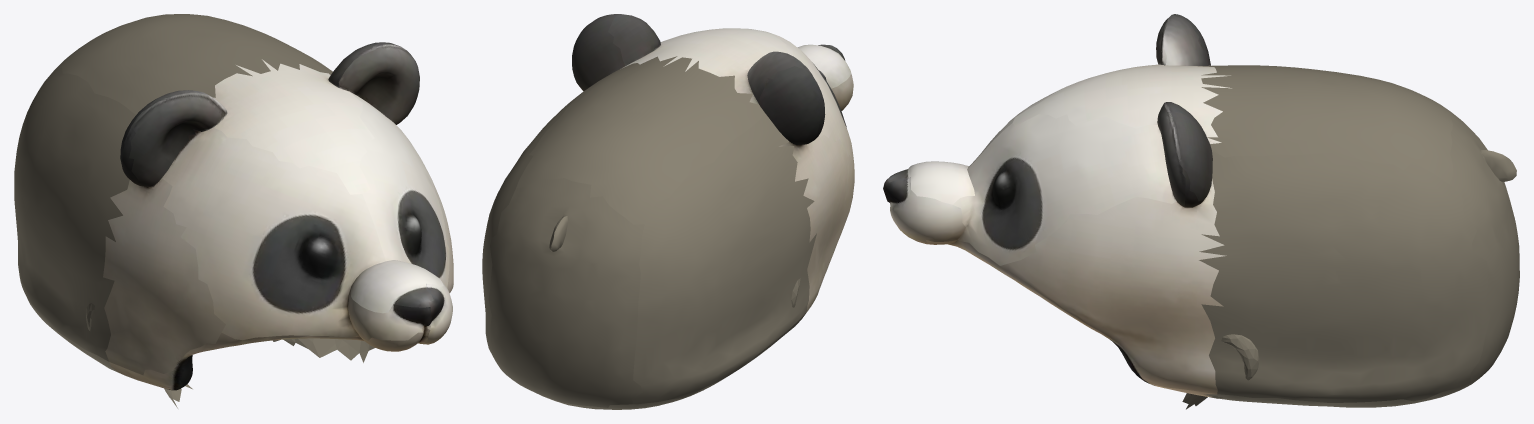
File: panda.glb
The picture shows the model from 3 angles, left to right: view 1: azimuth 30°, elevation 25°; view 2: azimuth 150°, elevation 25°; view 3: azimuth 270°, elevation 25°; orthographic projection. The views are drawn at different scales.
Parts seen in each view (by area): view 1: geometry_0, HoodAnatomicalLining; view 2: geometry_0; view 3: geometry_0, HoodAnatomicalLining.
Part boxes in pixels (<box>): geometry_0: <box>14,14,453,390</box>; HoodAnatomicalLining: <box>86,303,374,408</box>; geometry_0: <box>482,14,854,409</box>; geometry_0: <box>883,14,1519,407</box>; HoodAnatomicalLining: <box>1182,334,1259,409</box>.
Bounding box in the file's own units: 0.4756 × 0.4938 × 0.9207.
Materials: 2 (1 with a texture image).
